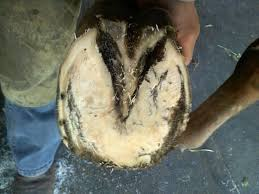horsesole: (55, 28, 192, 171)
